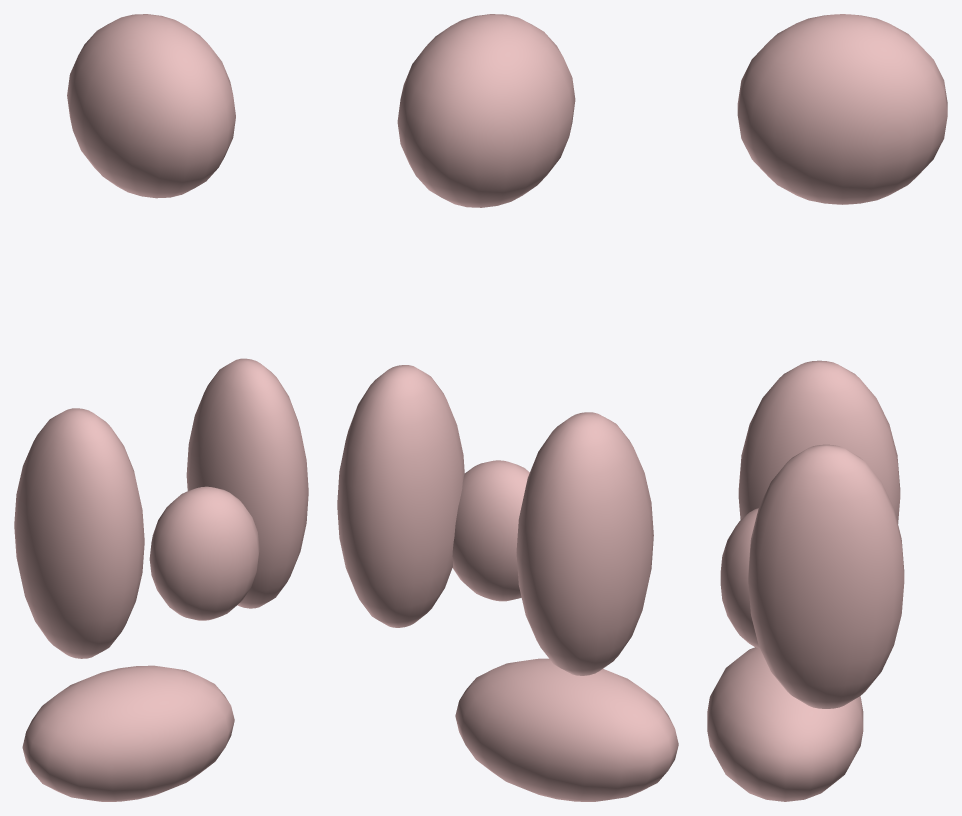
Rendered from organs.glb.
3 renders of one model, left to right at view 1: azimuth 30°, elevation 25°; view 2: azimuth 150°, elevation 25°; view 3: azimuth 270°, elevation 25°, orthographic. The views are drawn at different scales.
Visible parts, largest first — view 1: Right lung, Brain, Liver, Left lung, Heart; view 2: Right lung, Brain, Left lung, Liver, Heart; view 3: Left lung, Brain, Liver, Right lung, Heart.
Part boxes in pixels (<box>): Right lung: <box>14,408,144,658</box>; Brain: <box>67,14,235,198</box>; Liver: <box>22,665,234,801</box>; Left lung: <box>186,358,308,608</box>; Heart: <box>149,486,259,620</box>; Right lung: <box>516,412,653,675</box>; Brain: <box>397,14,575,207</box>; Left lung: <box>337,365,464,627</box>; Liver: <box>455,658,678,801</box>; Heart: <box>452,460,529,601</box>; Left lung: <box>748,444,904,708</box>; Brain: <box>737,14,947,204</box>; Liver: <box>707,647,863,801</box>; Right lung: <box>738,360,900,523</box>; Heart: <box>720,508,759,648</box>.
Size of the model in its own units: 0.259 by 0.637 by 0.1759.
